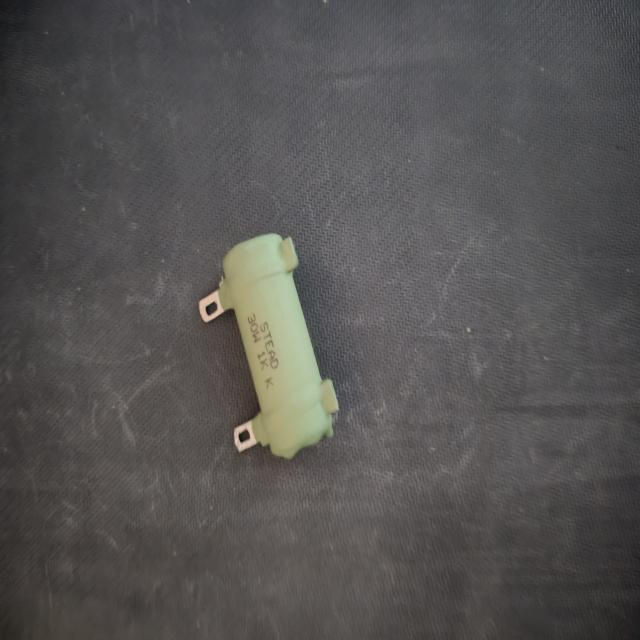resistor: (194, 228, 356, 463)
